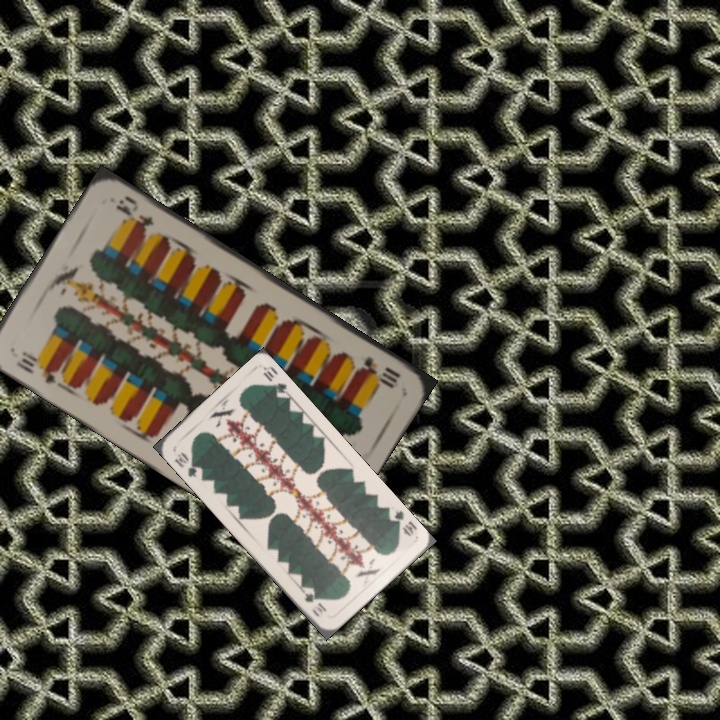E10: (348, 352, 403, 392), (11, 346, 61, 386)
G10: (384, 507, 419, 539), (170, 448, 202, 480)
